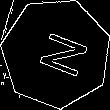N_W: (25, 26, 87, 81)
